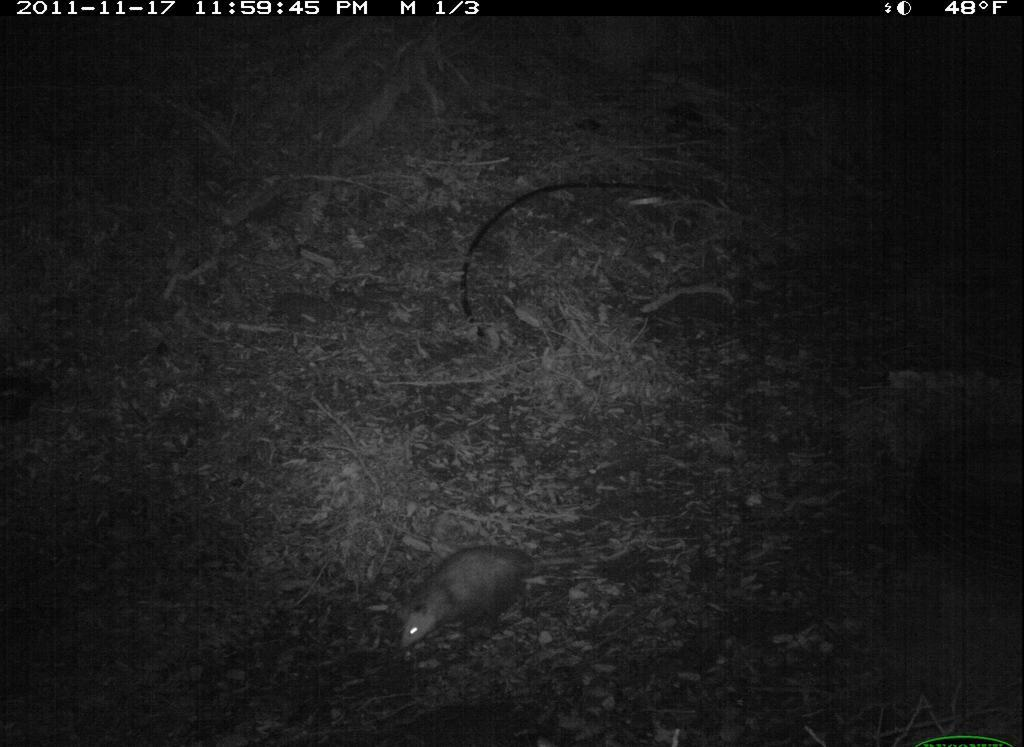opossum: (390, 537, 615, 660)
